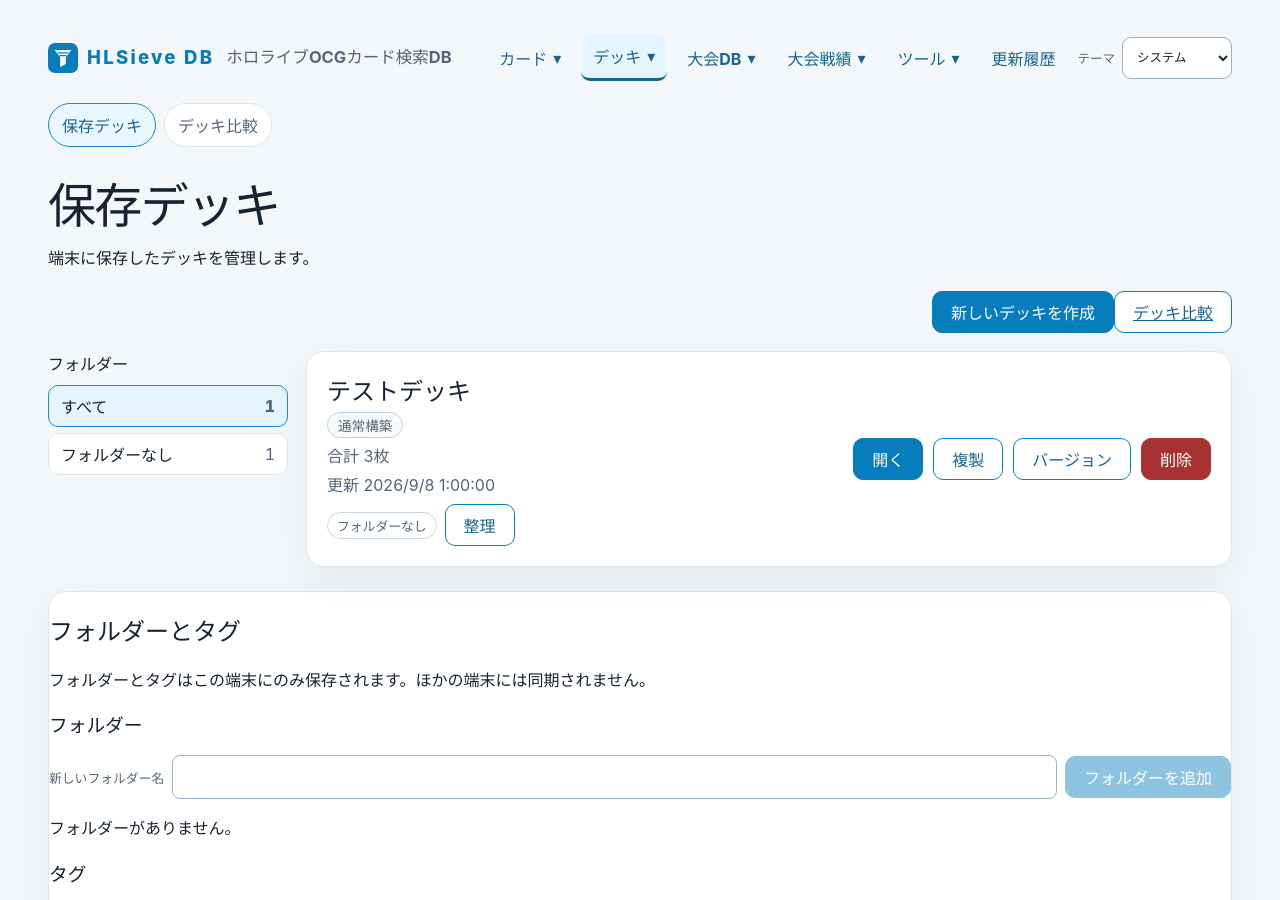
Scenario: SavedDecksPage › deletes only after confirmation
The image size is (1280, 900).
expect the heading "テストデッキ" is shown: met, box left=327, top=377, right=471, bottom=406
Click the button with aria-label "テストデッキを削除": (1176, 459) left=1141, top=438, right=1211, bottom=480
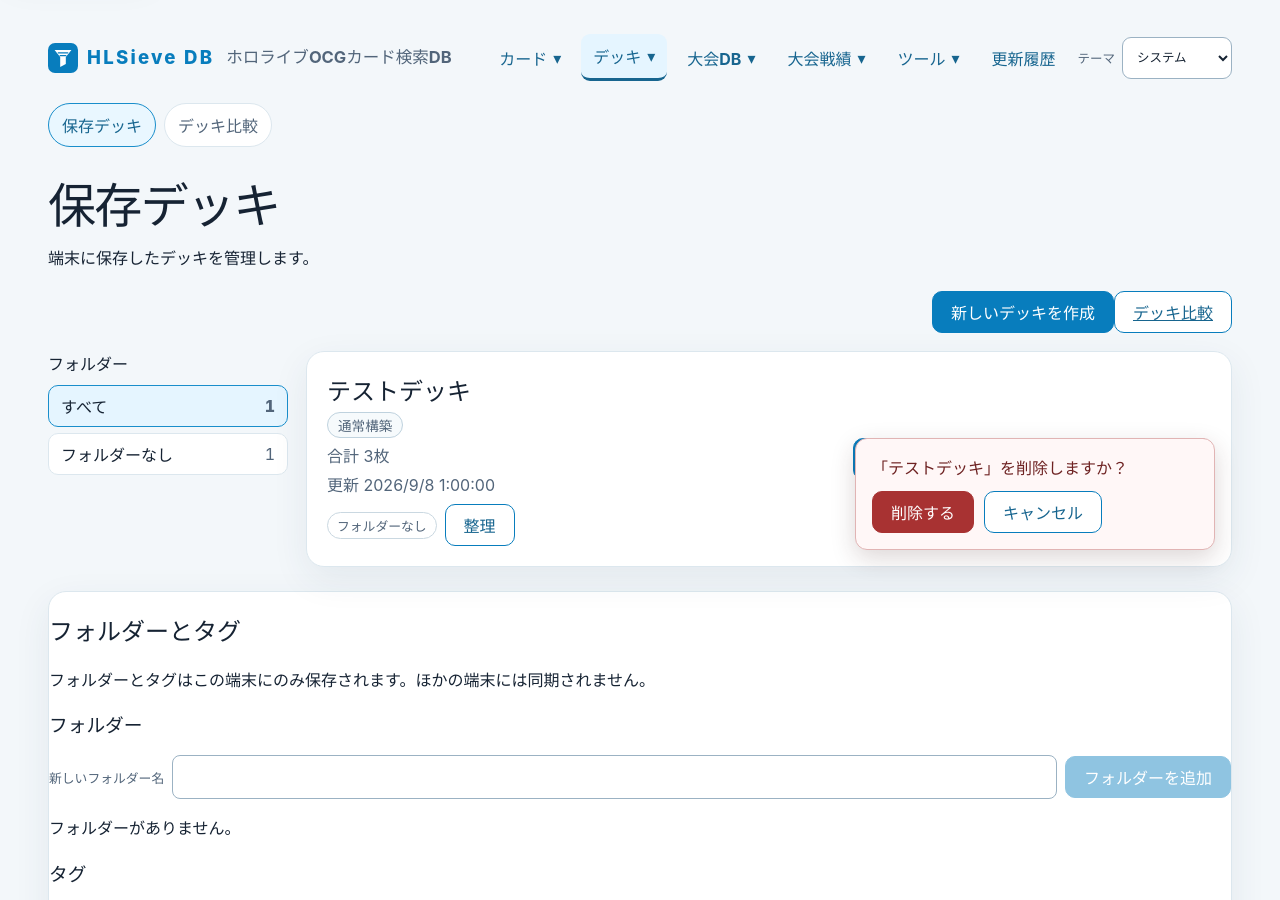
Click the button "削除する": (923, 512) left=872, top=491, right=974, bottom=533
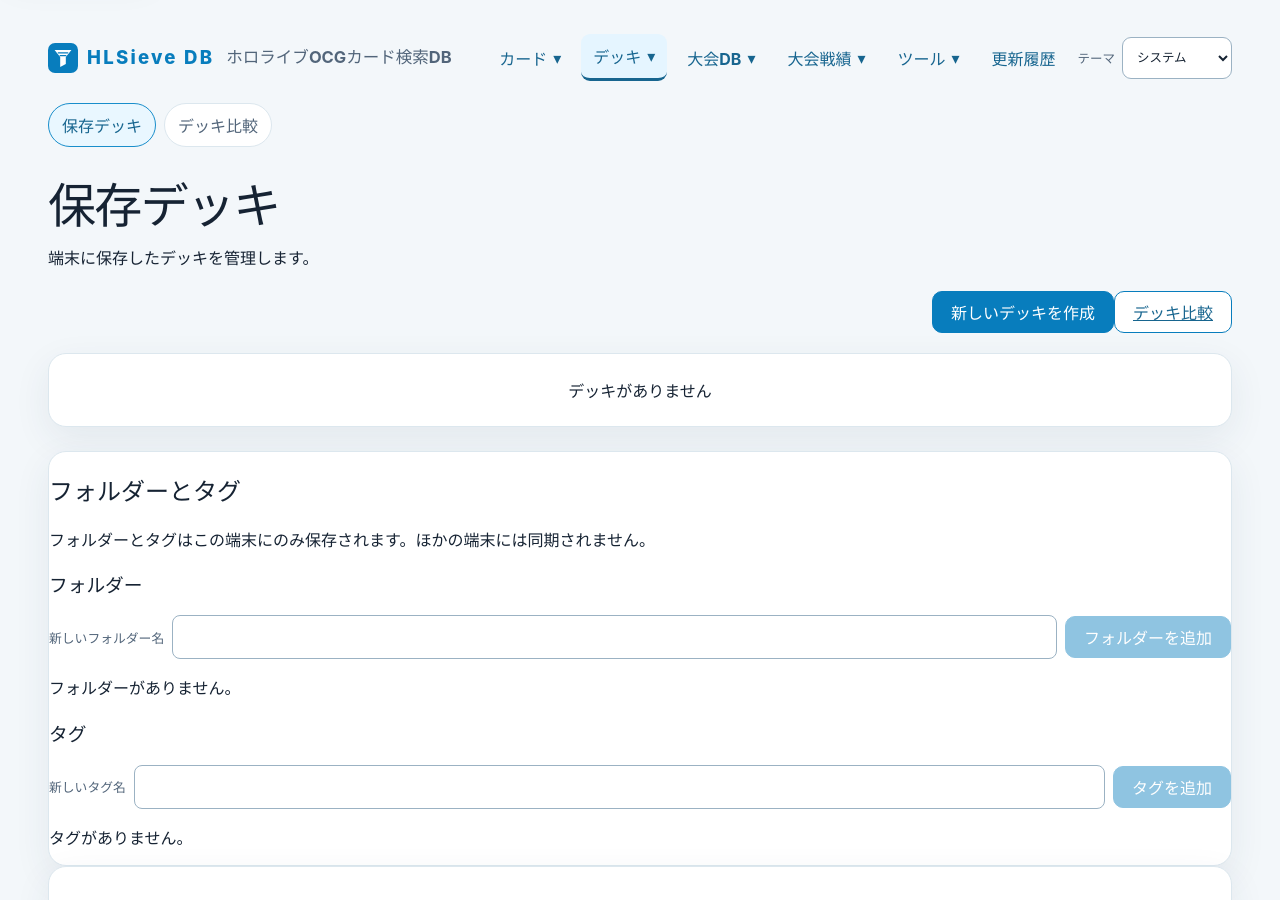
expect the text "デッキがありません" is shown: met, box left=48, top=353, right=1232, bottom=427
